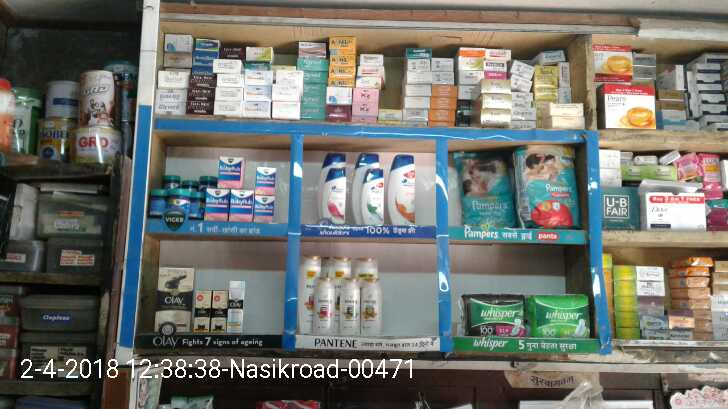vicks: (147, 154, 276, 217)
